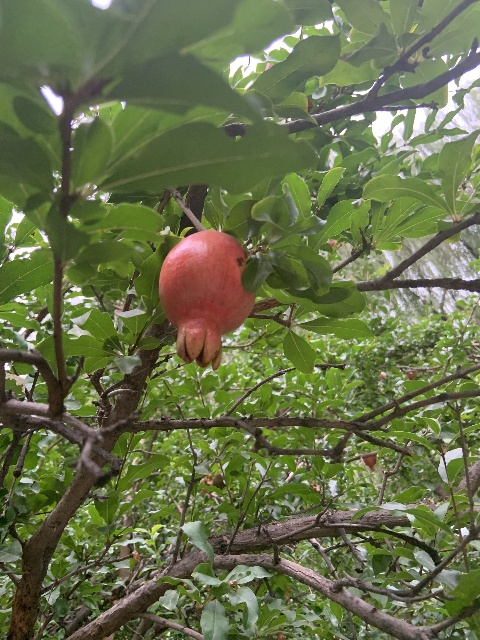ripe: (158, 229, 256, 370), (362, 455, 376, 472)
